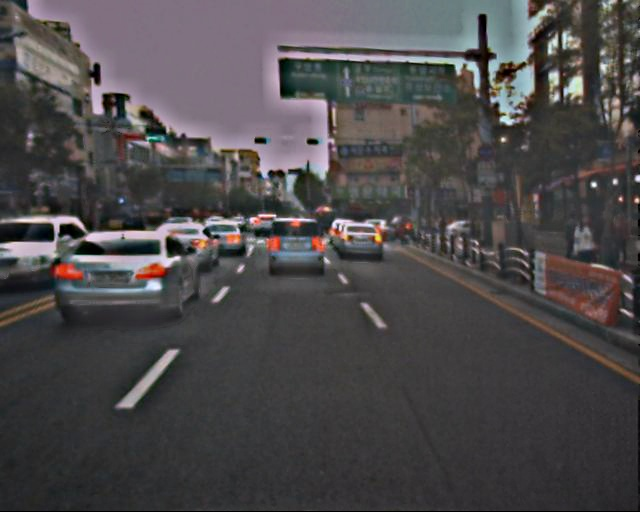person: (572, 217, 601, 287), (604, 210, 627, 266), (563, 215, 583, 263)
